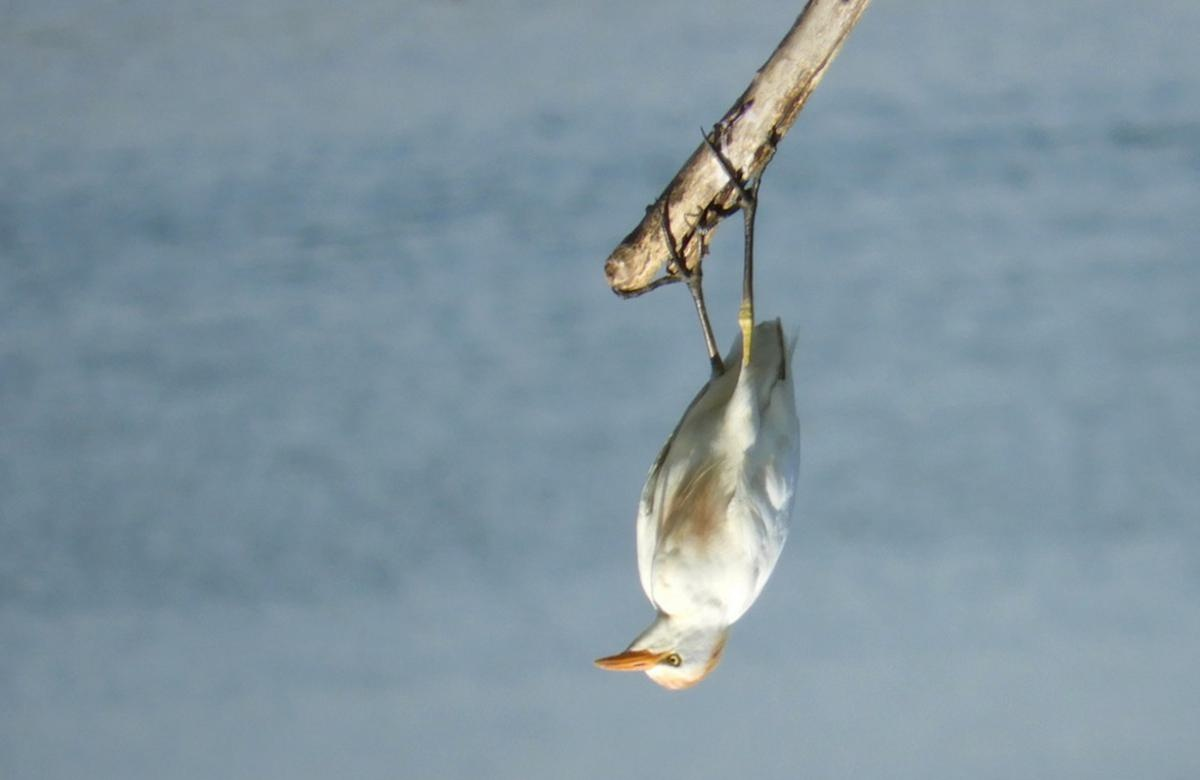egret: (595, 78, 794, 695)
